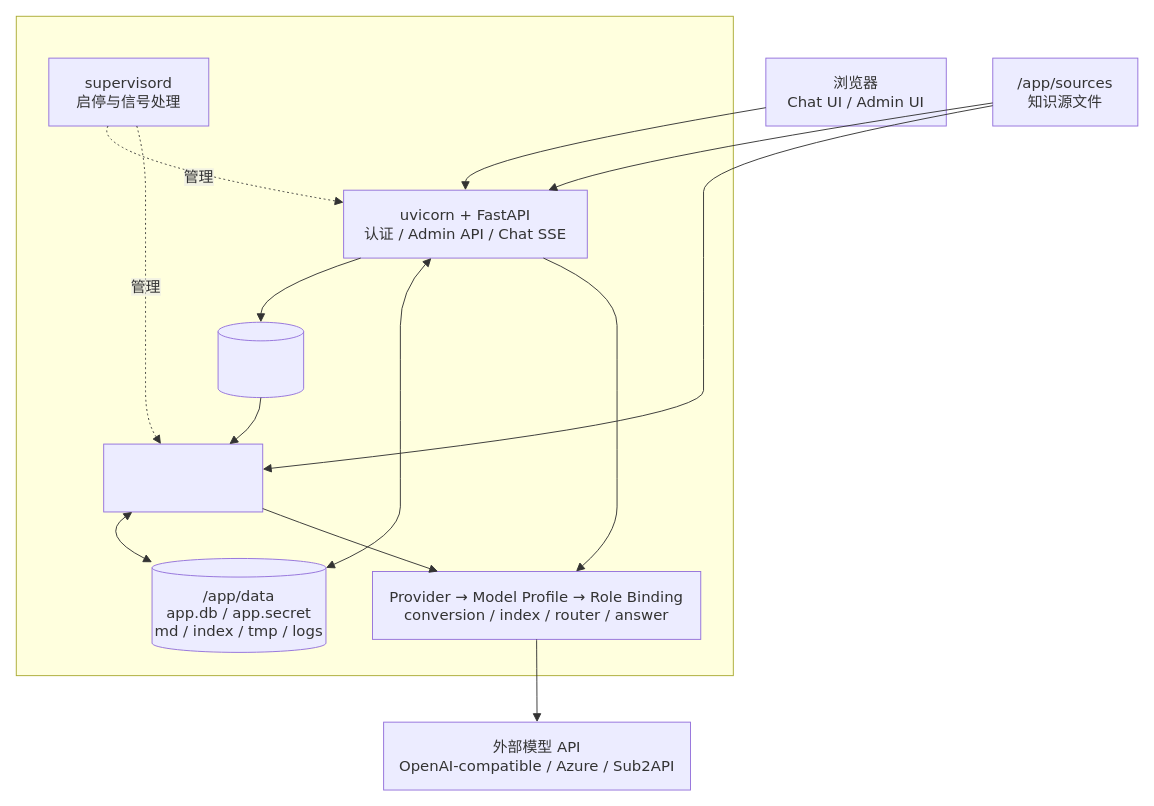
The diagram is 1154 pixels wide and 806 high, and some of its shapes have lost their labels. Each missing label, with the box of its shape:
huey_consumer 转换 / 索引: (103, 443, 263, 512)
queue.db SqliteHuey: (217, 321, 304, 398)
单一 Docker 容器: (15, 15, 733, 676)
